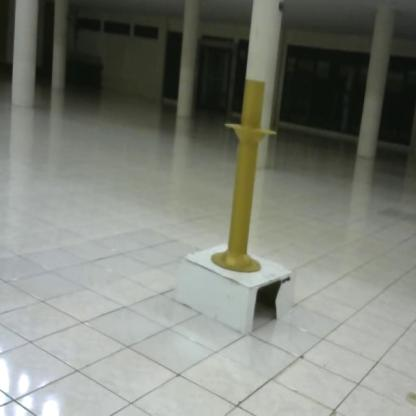pole: (211, 71, 280, 274)
